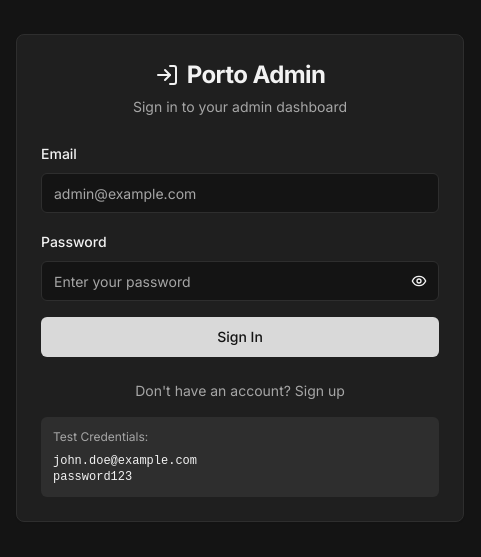
Test: LoginPage › should show error message when login fails
In the field labelled "Email": (240, 193) 41,173 -> 439,213, type "wrong@example.com"
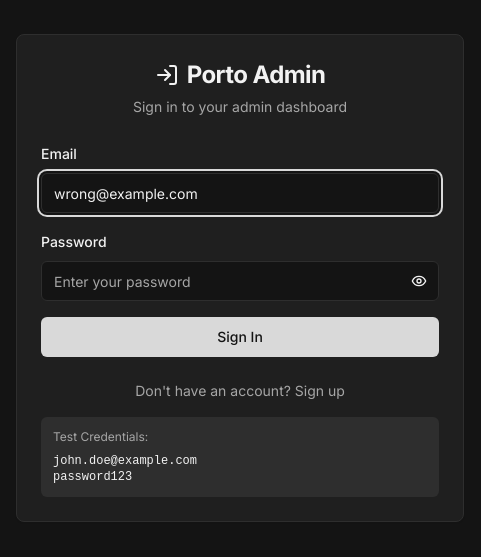
In the password field labelled "Password": (240, 281) 41,261 -> 439,301, type "wrongpassword"
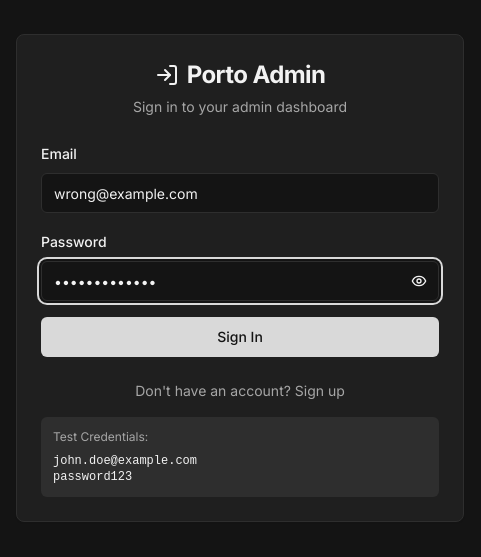
Click the button "Sign In": (240, 337) 41,317 -> 439,357
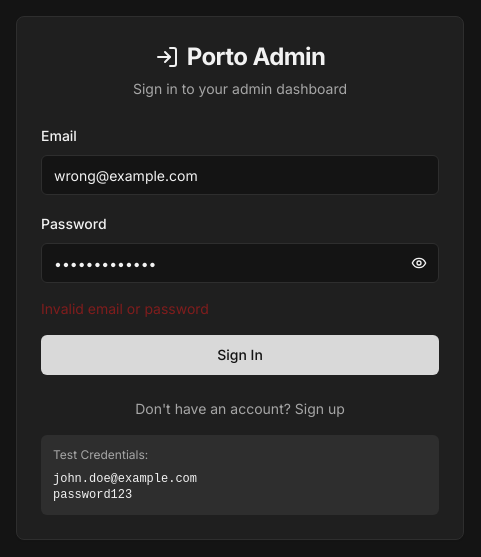
Expected: the text "Invalid email or password" is shown, 41,300 -> 209,317
